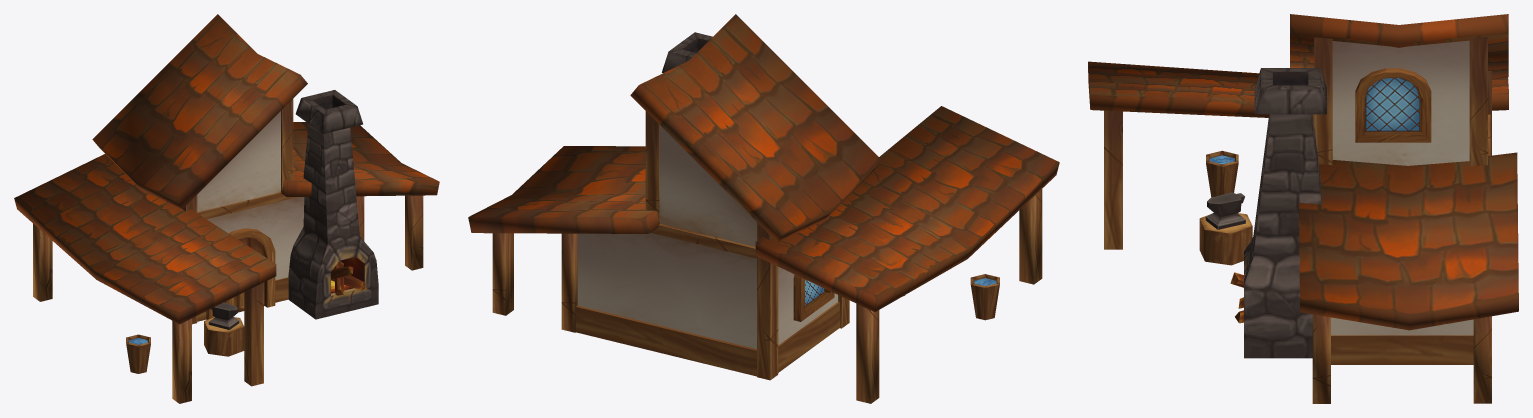
Rendered from building_4_4.FBX.
3 renders of one model, left to right at view 1: azimuth 30°, elevation 25°; view 2: azimuth 150°, elevation 25°; view 3: azimuth 270°, elevation 25°, orthographic. The views are drawn at different scales.
Parts seen in each view (by area): view 1: building_4_4; view 2: building_4_4; view 3: building_4_4.
Part boxes in pixels (left/top/right/bottom): building_4_4: left=14, top=14, right=439, bottom=403; building_4_4: left=468, top=14, right=1059, bottom=403; building_4_4: left=1088, top=14, right=1518, bottom=403.
Size of the model in its own units: 373 by 235 by 301.
